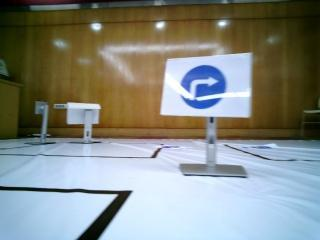right: (165, 58, 248, 115)
